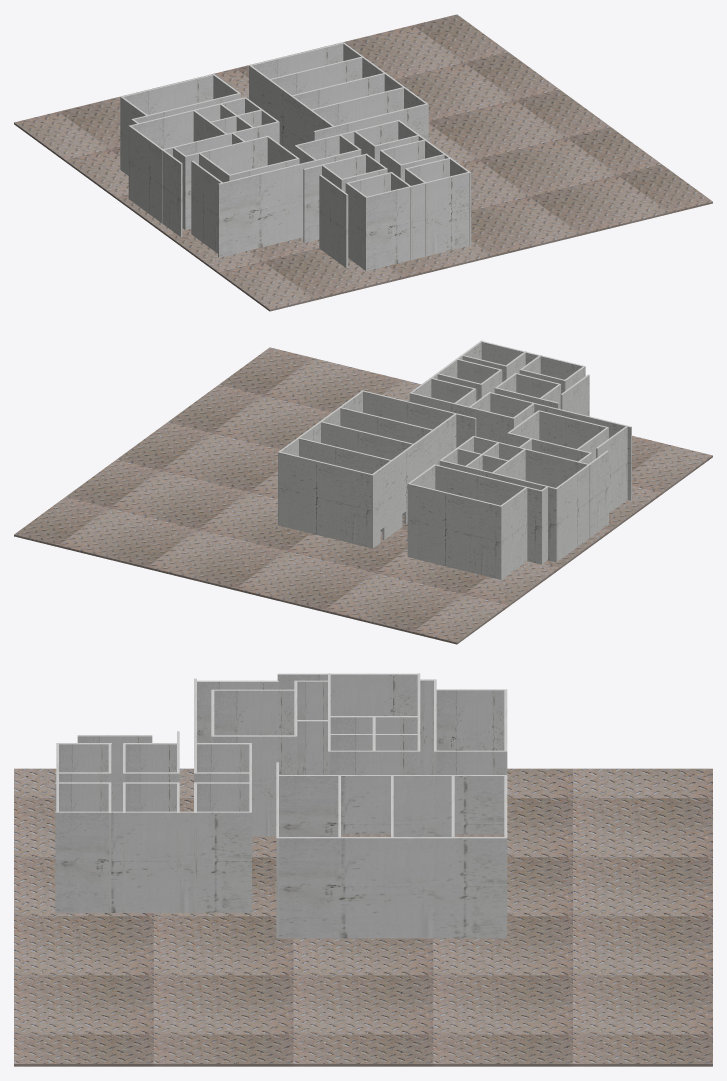
Rendered from Map_Medical.glb.
3 views of the same model, one above another, from view 1: azimuth 30°, elevation 25°; view 2: azimuth 150°, elevation 25°; view 3: azimuth 270°, elevation 25° (orthographic). The views are drawn at different scales.
Parts seen in each view (by area): view 1: Floor-col, Wall.033-col, Wall.026-col, Wall.015-col, Wall.007-col, Wall.016-col, Wall.009-col, Wall.034-col, Wall.003-col, Wall.025-col, Wall.038-col, Wall.006-col (+18 smaller); view 2: Floor-col, Wall.003-col, Wall.002-col, Wall.007-col, Wall.015-col, Wall.008-col, Wall-col, Wall.010-col, Wall.012-col, Wall.005-col, Wall.026-col, Wall.028-col (+16 smaller); view 3: Floor-col, Wall.001-col, Wall.029-col, Wall.007-col, Wall.015-col, Wall.012-col, Wall.019-col, Wall.017-col, Wall.014-col, Wall.011-col, Wall.020-col, Wall.025-col (+12 smaller).
Part boxes in pixels (box(x1,y1,x2,y2)): Floor-col: box(14, 14, 712, 311); Wall.033-col: box(365, 171, 469, 270); Wall.026-col: box(218, 149, 361, 257); Wall.015-col: box(129, 126, 182, 236); Wall.007-col: box(249, 65, 333, 154); Wall.016-col: box(184, 136, 268, 229); Wall.009-col: box(128, 97, 244, 199); Wall.034-col: box(319, 174, 348, 268); Wall.003-col: box(120, 74, 214, 169); Wall.025-col: box(191, 161, 222, 253); Wall.038-col: box(303, 154, 365, 242); Wall.006-col: box(312, 87, 403, 125); Floor-col: box(14, 347, 712, 644); Wall.003-col: box(407, 483, 501, 579); Wall.002-col: box(279, 452, 371, 547); Wall.007-col: box(371, 414, 456, 548); Wall.015-col: box(555, 450, 608, 560); Wall.008-col: box(434, 464, 542, 564); Wall-col: box(362, 390, 476, 447); Wall.010-col: box(473, 436, 590, 538); Wall.012-col: box(501, 487, 527, 579); Wall.005-col: box(321, 421, 414, 515); Wall.026-col: box(489, 392, 631, 500); Wall.028-col: box(409, 392, 514, 443); Floor-col: box(14, 768, 712, 1066); Wall.001-col: box(276, 837, 507, 938); Wall.029-col: box(55, 811, 251, 912); Wall.007-col: box(279, 775, 504, 836); Wall.015-col: box(277, 673, 419, 715); Wall.012-col: box(436, 689, 504, 750); Wall.019-col: box(214, 689, 294, 735); Wall.017-col: box(213, 735, 296, 836); Wall.014-col: box(329, 750, 419, 774); Wall.011-col: box(436, 750, 506, 774); Wall.020-col: box(297, 720, 328, 774); Wall.025-col: box(195, 680, 278, 742).
Bounding box in the file's own units: 100 × 16.2 × 100.
Materials: 3 (3 with a texture image).
